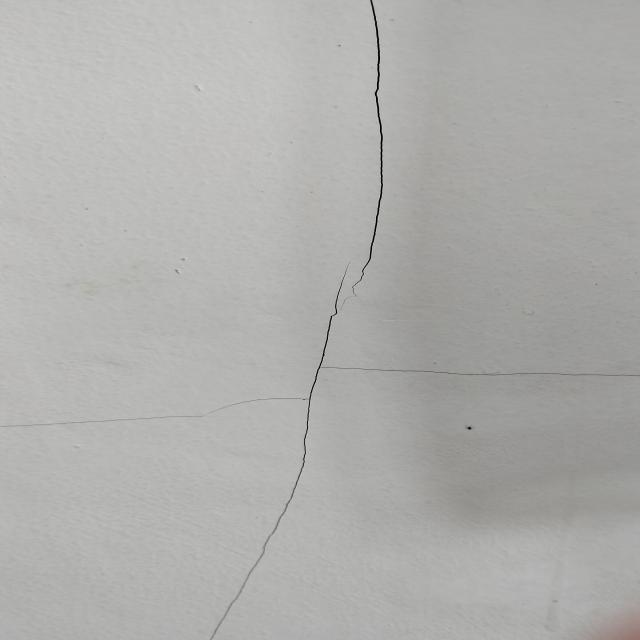Crack: (196, 2, 398, 640)
